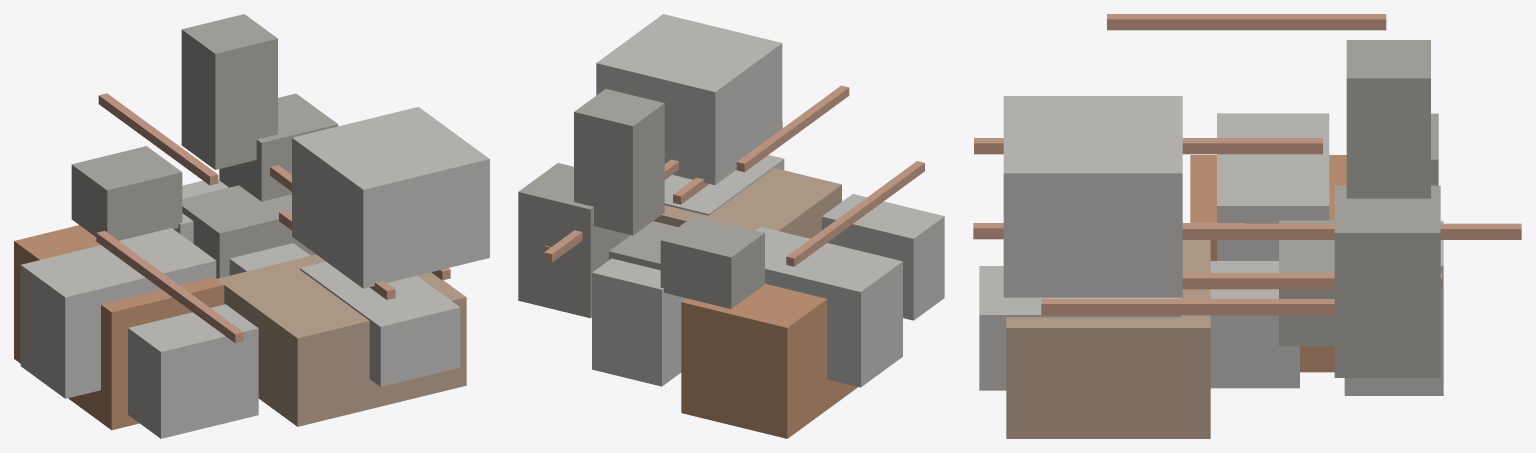
Rendered from Debris.glb.
3 views of the same model, side by side, from view 1: azimuth 30°, elevation 25°; view 2: azimuth 150°, elevation 25°; view 3: azimuth 270°, elevation 25° (orthographic). The views are drawn at different scales.
Bounding box in the file's own units: 1.21 × 0.9852 × 1.34.
